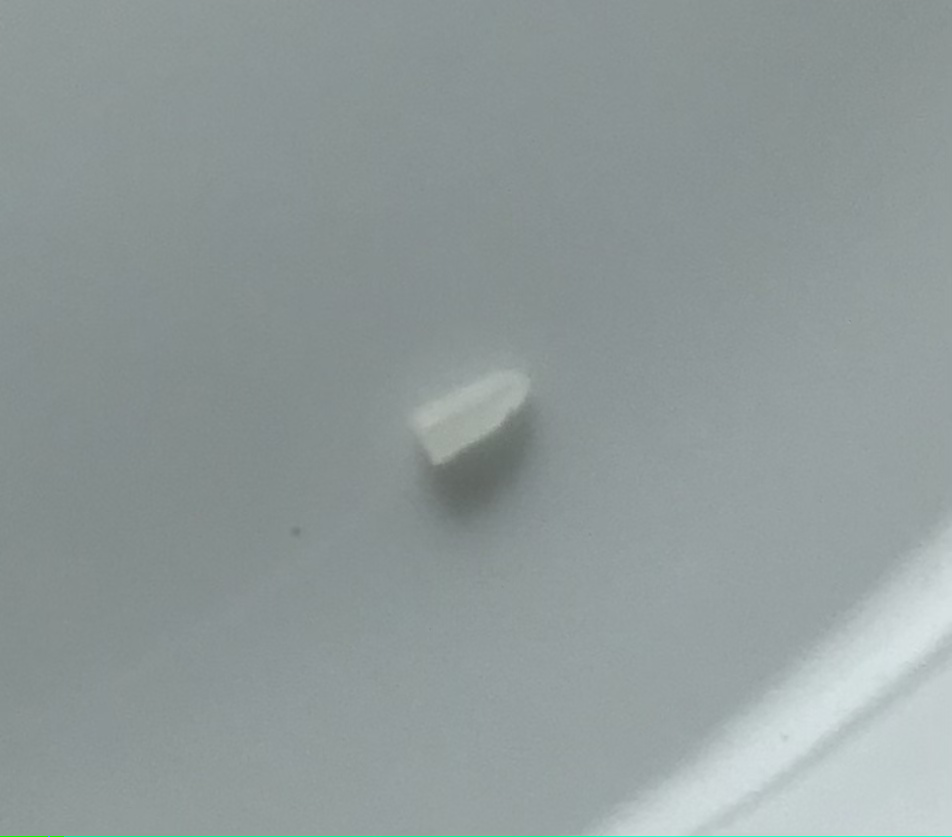Gao Tam: (409, 366, 540, 475)
